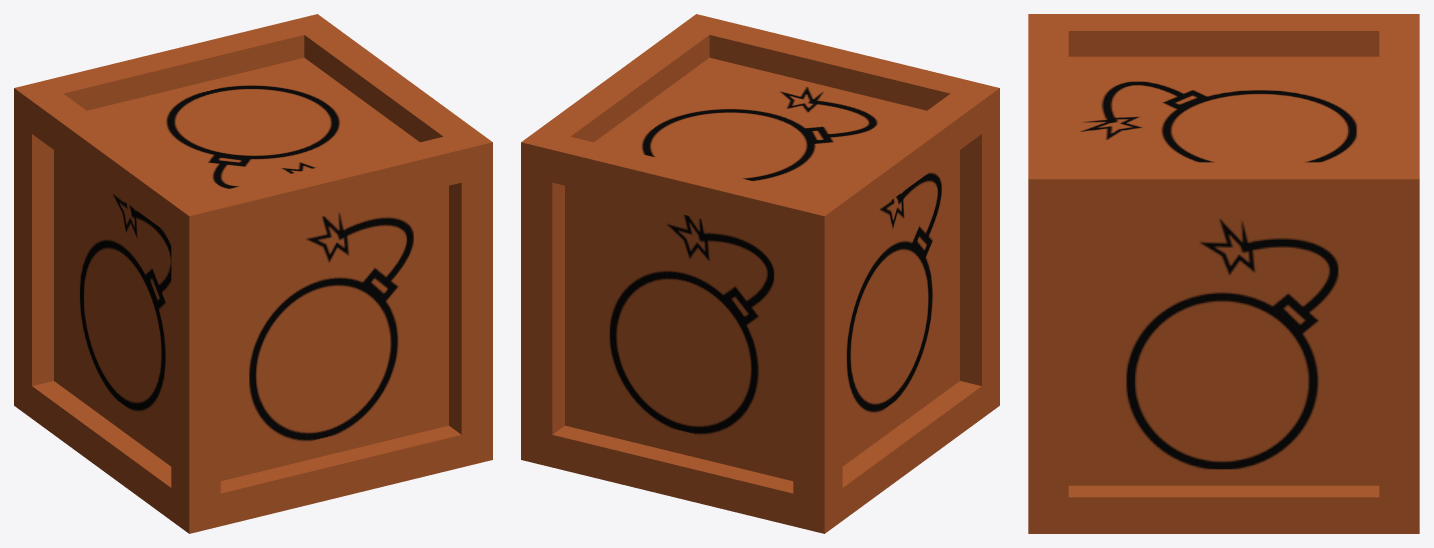
The model's file is paintBombPowerupBox.fbx.
3 renders of one model, left to right at view 1: azimuth 30°, elevation 25°; view 2: azimuth 150°, elevation 25°; view 3: azimuth 270°, elevation 25°, orthographic. The views are drawn at different scales.
Parts seen in each view (by area): view 1: Cube; view 2: Cube; view 3: Cube.
Boxes of the visible parts, left/top/right/bottom form: Cube: left=14, top=14, right=492, bottom=533; Cube: left=521, top=14, right=999, bottom=533; Cube: left=1028, top=14, right=1419, bottom=533.
Bounding box in the file's own units: 200 × 200 × 200.
1 material, 1 textured.
